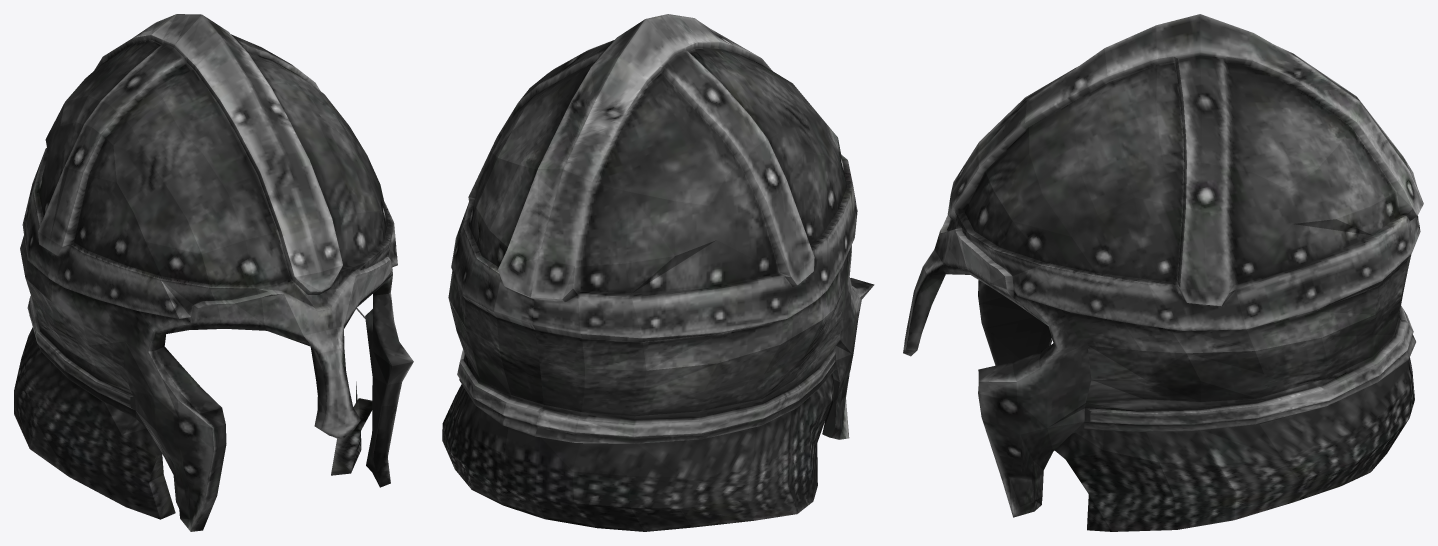
The model's file is ITHL_MAKEDHELMET4_S_STEELLIGHT.glb.
3 renders of one model, left to right at view 1: azimuth 30°, elevation 25°; view 2: azimuth 150°, elevation 25°; view 3: azimuth 270°, elevation 25°, orthographic. The views are drawn at different scales.
Visible parts, largest first — view 1: ITHL_MAKEDHELMET4_S_STEELLIGHT; view 2: ITHL_MAKEDHELMET4_S_STEELLIGHT; view 3: ITHL_MAKEDHELMET4_S_STEELLIGHT.
Part boxes in pixels (x1,y1,x2,y2): ITHL_MAKEDHELMET4_S_STEELLIGHT: (14,14,413,531); ITHL_MAKEDHELMET4_S_STEELLIGHT: (442,14,874,531); ITHL_MAKEDHELMET4_S_STEELLIGHT: (903,14,1423,531).
Bounding box in the file's own units: 0.237 × 0.3188 × 0.3221.
1 material, 1 textured.
